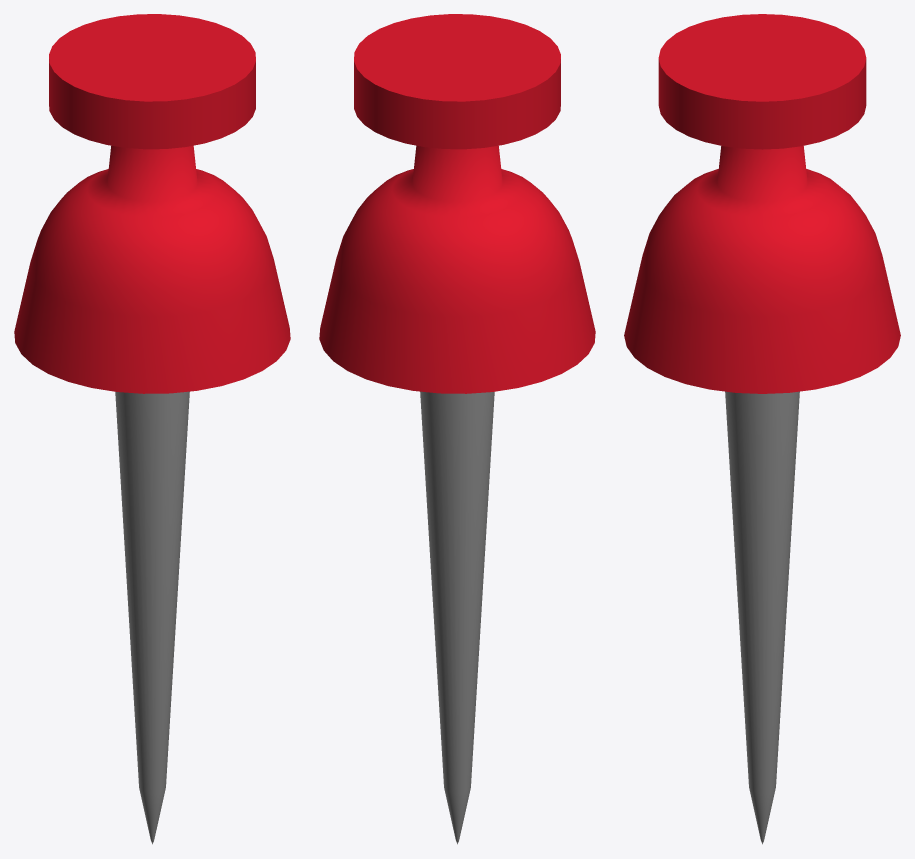
The model's file is pin.fbx.
3 renders of one model, left to right at view 1: azimuth 30°, elevation 25°; view 2: azimuth 150°, elevation 25°; view 3: azimuth 270°, elevation 25°, orthographic.
Parts seen in each view (by area): view 1: Circle; view 2: Circle; view 3: Circle.
Part boxes in pixels (box(x1,y1,x2,y2)): Circle: box(14, 14, 290, 844); Circle: box(319, 14, 595, 844); Circle: box(624, 14, 900, 844).
Bounding box in the file's own units: 132 × 413 × 132.
